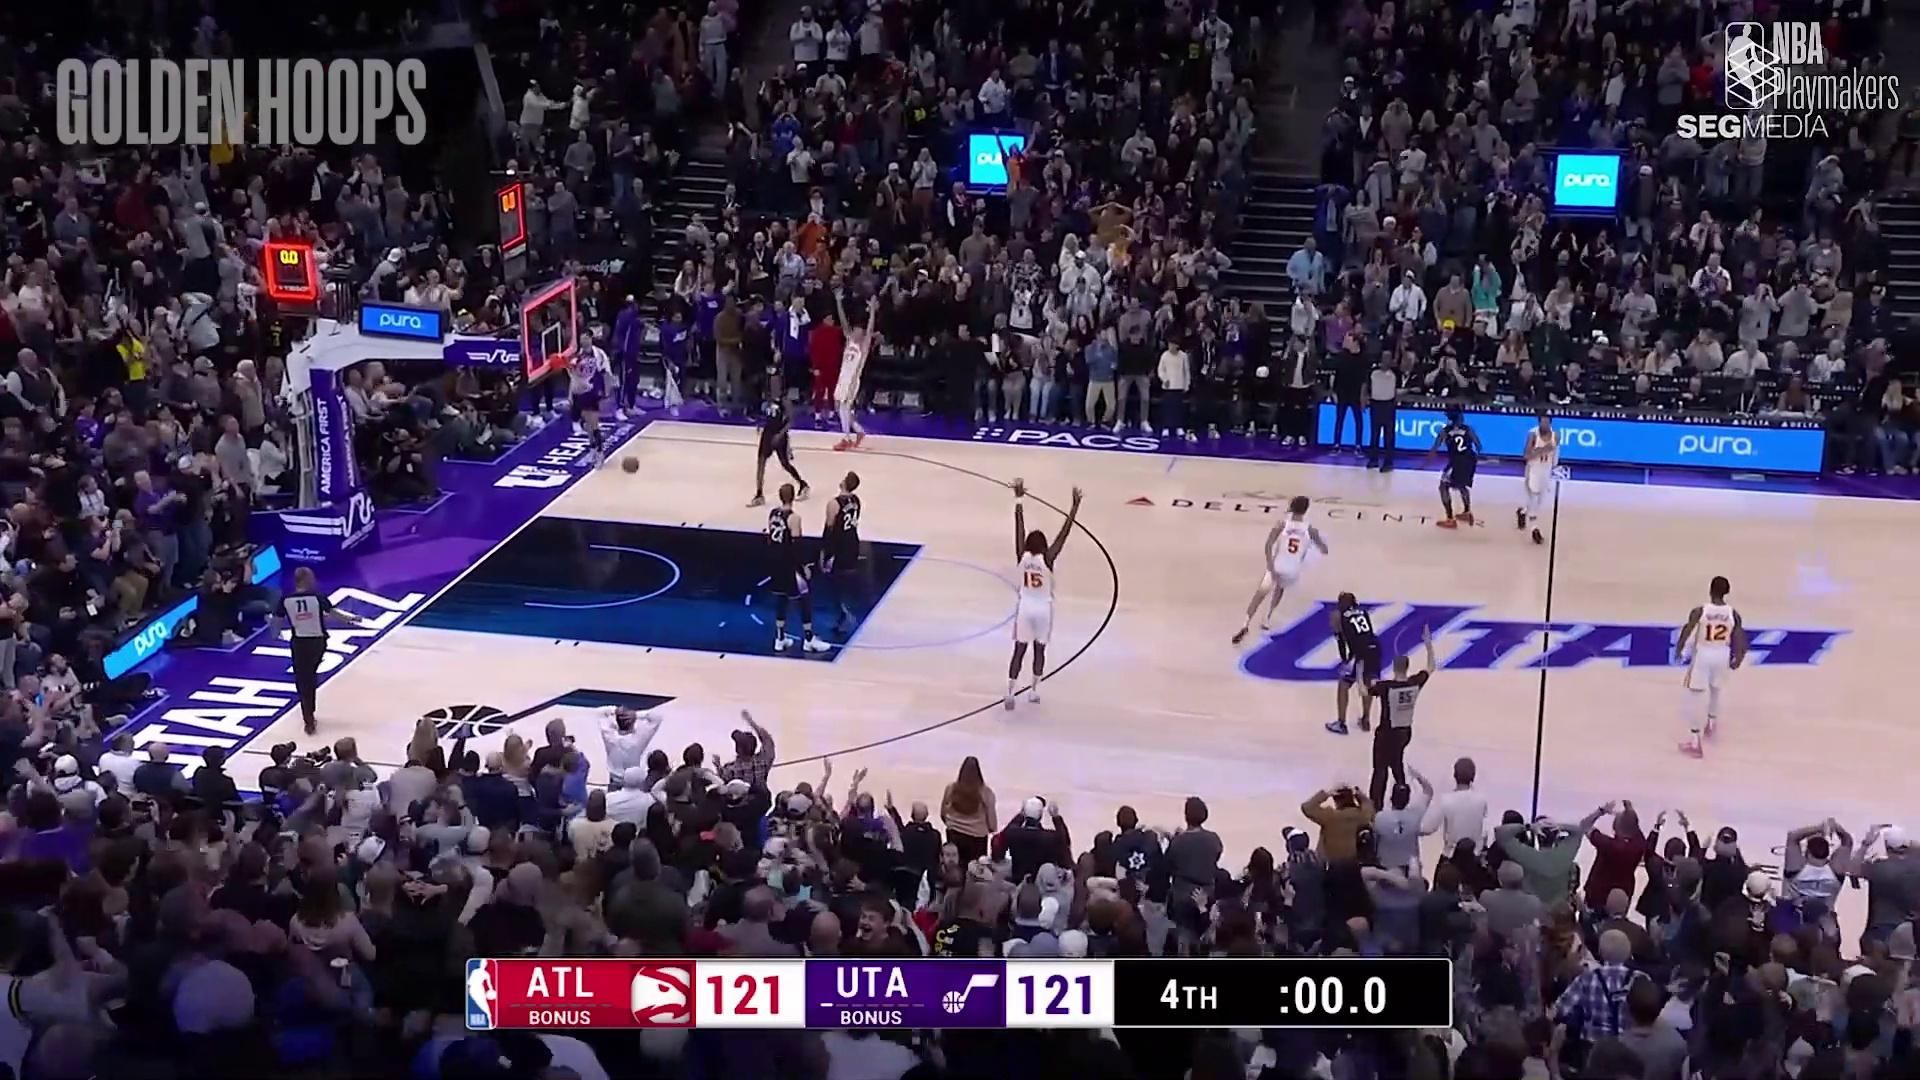ball: (618, 452, 644, 477)
hoop: (558, 344, 605, 398)
